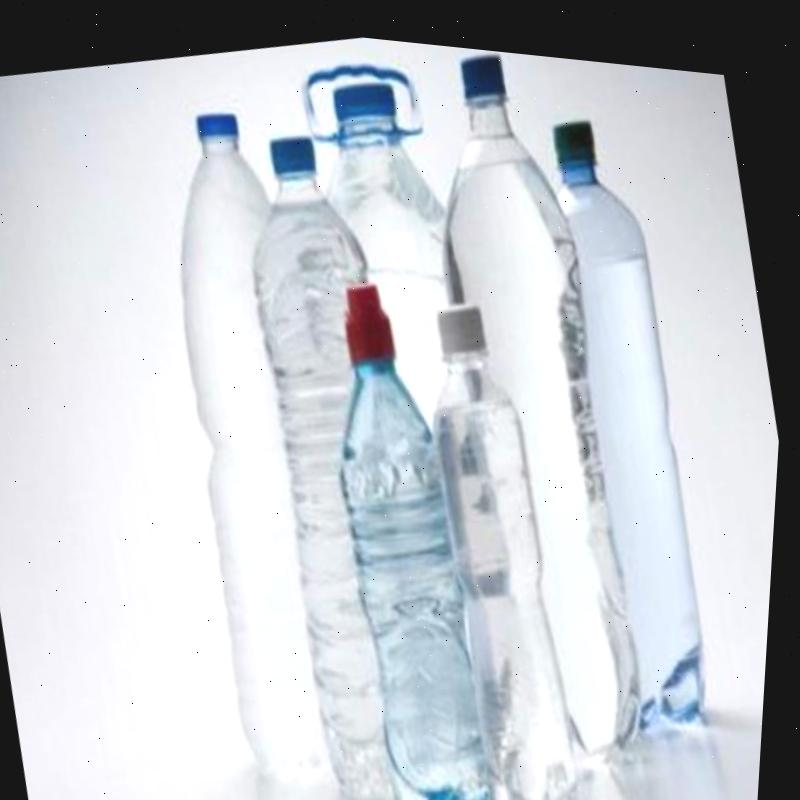botella: (384, 34, 689, 760), (204, 112, 490, 800), (123, 95, 395, 782), (516, 96, 761, 735), (294, 263, 524, 800), (391, 278, 620, 800), (293, 55, 500, 450)
